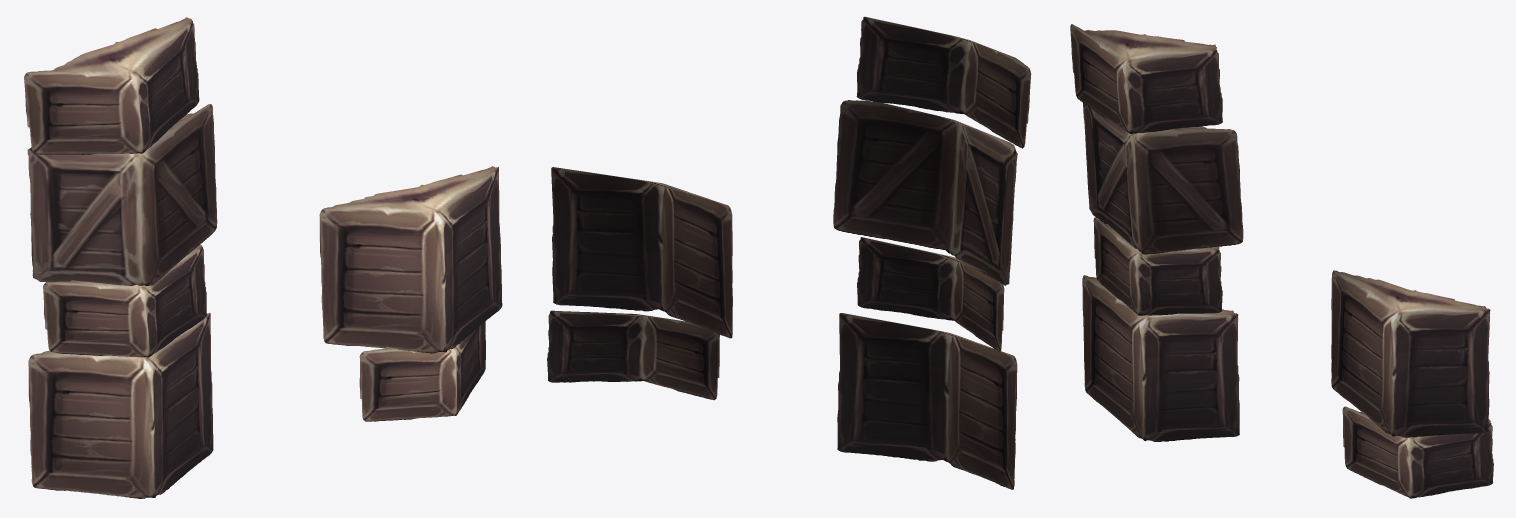
The model's file is Crate Piles.FBX.
The picture shows the model from 3 angles, left to right: view 1: azimuth 30°, elevation 25°; view 2: azimuth 150°, elevation 25°; view 3: azimuth 330°, elevation 25°; orthographic projection. The views are drawn at different scales.
Visible parts, largest first — view 1: Crate Piles; view 2: Crate Piles; view 3: Crate Piles.
Part boxes in pixels (x1,y1,x2,y2): Crate Piles: (24, 17, 502, 498); Crate Piles: (547, 16, 1031, 489); Crate Piles: (1070, 24, 1493, 498).
Size of the model in its own units: 821 by 117 by 723.
